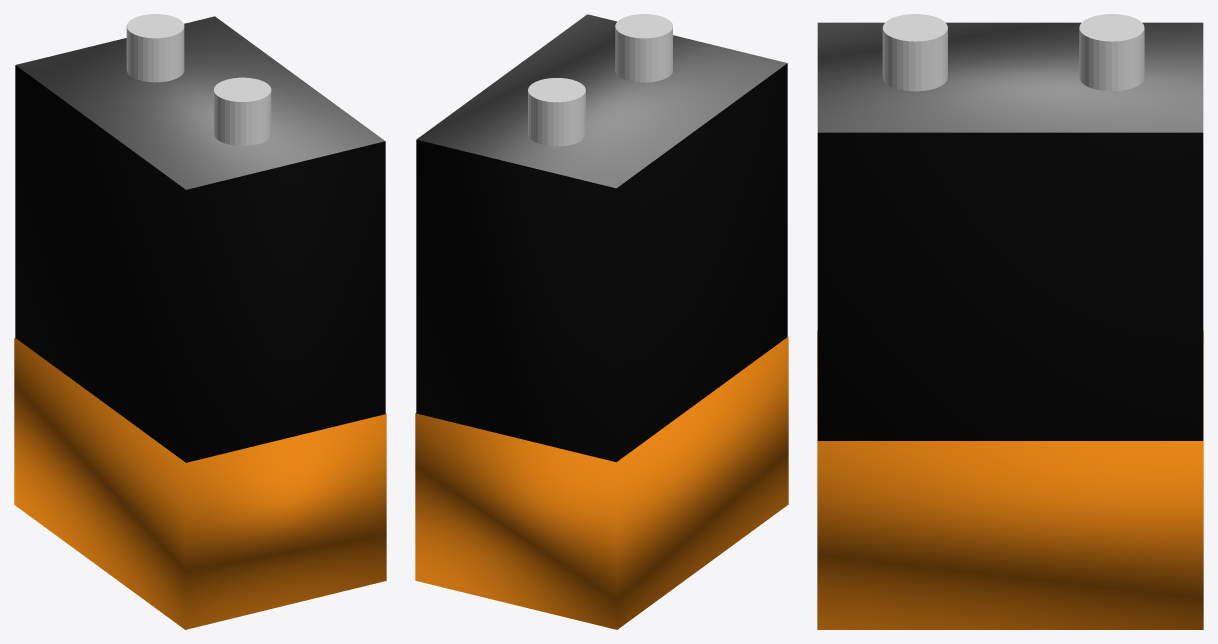
Rendered from Battery.fbx.
3 views of the same model, side by side, from view 1: azimuth 30°, elevation 25°; view 2: azimuth 150°, elevation 25°; view 3: azimuth 270°, elevation 25° (orthographic). The views are drawn at different scales.
Visible parts, largest first — view 1: Cube, Cube.001, Cylinder.001, Cylinder; view 2: Cube, Cube.001, Cylinder, Cylinder.001; view 3: Cube, Cube.001, Cylinder.001, Cylinder.
Boxes of the visible parts, x1,y1,x2,y2 form: Cube: [15, 16, 385, 462]; Cube.001: [14, 338, 386, 629]; Cylinder.001: [126, 14, 184, 82]; Cylinder: [213, 77, 271, 145]; Cube: [416, 14, 787, 462]; Cube.001: [415, 337, 788, 629]; Cylinder: [615, 14, 672, 82]; Cylinder.001: [528, 78, 585, 146]; Cube: [817, 22, 1203, 440]; Cube.001: [817, 331, 1203, 629]; Cylinder.001: [1079, 14, 1144, 91]; Cylinder: [882, 14, 947, 91].
Bounding box in the file's own units: 126 × 289 × 185.
